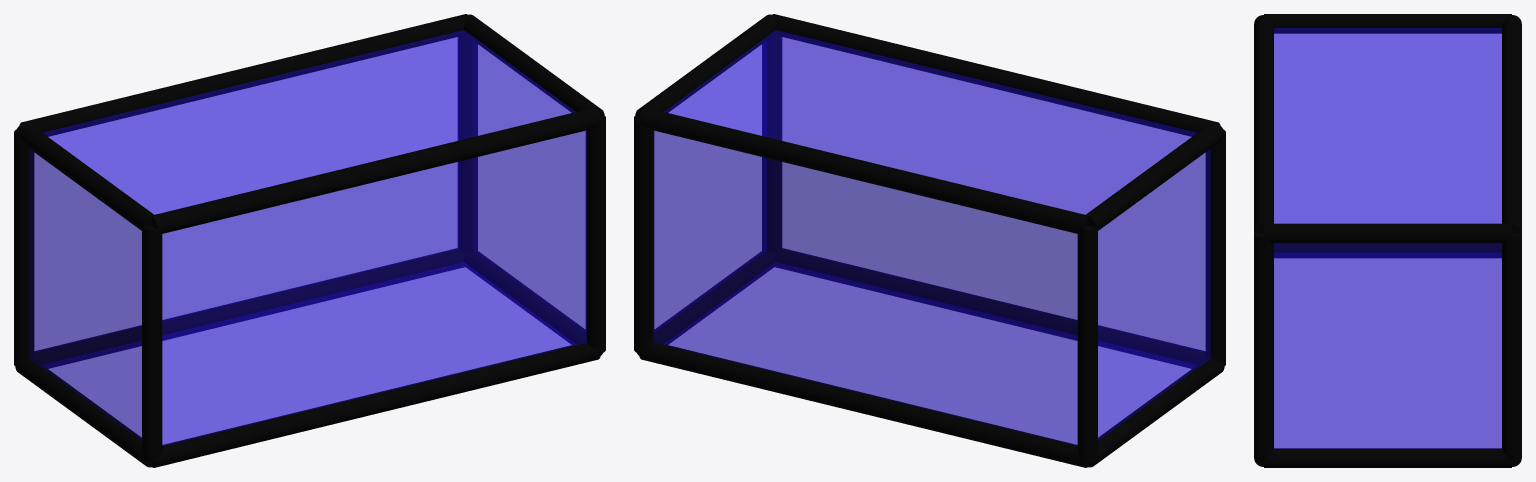
File: rectangularprism.fbx
The picture shows the model from 3 angles, left to right: view 1: azimuth 30°, elevation 25°; view 2: azimuth 150°, elevation 25°; view 3: azimuth 270°, elevation 25°; orthographic projection. The views are drawn at different scales.
Visible parts, largest first — view 1: ReferenceCuboid, CuboidEdge.002, CuboidEdge.006, CuboidEdge, CuboidEdge.004, CuboidEdge.010, CuboidEdge.011, CuboidEdge.009, CuboidEdge.008, CuboidEdge.001, CuboidEdge.005, CuboidEdge.003 (+1 smaller); view 2: ReferenceCuboid, CuboidEdge, CuboidEdge.004, CuboidEdge.002, CuboidEdge.006, CuboidEdge.009, CuboidEdge.008, CuboidEdge.010, CuboidEdge.011, CuboidEdge.001, CuboidEdge.005, CuboidEdge.003 (+1 smaller); view 3: ReferenceCuboid, CuboidEdge.003, CuboidEdge.007, CuboidEdge.001, CuboidEdge.008, CuboidEdge.011, CuboidEdge, CuboidEdge.002, CuboidEdge.005.
Part boxes in pixels (left/top/right/bottom): ReferenceCuboid: left=29, top=30, right=586, bottom=445; CuboidEdge.002: left=152, top=108, right=600, bottom=233; CuboidEdge.006: left=152, top=342, right=600, bottom=467; CuboidEdge: left=19, top=14, right=467, bottom=136; CuboidEdge.004: left=34, top=248, right=464, bottom=368; CuboidEdge.010: left=142, top=226, right=162, bottom=462; CuboidEdge.011: left=585, top=115, right=605, bottom=353; CuboidEdge.009: left=14, top=129, right=34, bottom=366; CuboidEdge.008: left=458, top=35, right=477, bottom=253; CuboidEdge.001: left=15, top=123, right=153, bottom=230; CuboidEdge.005: left=15, top=358, right=152, bottom=467; CuboidEdge.003: left=464, top=14, right=604, bottom=116; ReferenceCuboid: left=653, top=30, right=1210, bottom=445; CuboidEdge: left=639, top=108, right=1087, bottom=233; CuboidEdge.004: left=639, top=342, right=1087, bottom=467; CuboidEdge.002: left=772, top=14, right=1220, bottom=136; CuboidEdge.006: left=775, top=248, right=1205, bottom=368; CuboidEdge.009: left=1077, top=226, right=1097, bottom=462; CuboidEdge.008: left=634, top=115, right=654, bottom=353; CuboidEdge.010: left=1205, top=129, right=1225, bottom=366; CuboidEdge.011: left=762, top=35, right=781, bottom=253; CuboidEdge.001: left=1086, top=123, right=1224, bottom=230; CuboidEdge.005: left=1087, top=358, right=1224, bottom=467; CuboidEdge.003: left=635, top=14, right=775, bottom=116; ReferenceCuboid: left=1274, top=28, right=1501, bottom=448; CuboidEdge.003: left=1264, top=223, right=1511, bottom=243; CuboidEdge.007: left=1264, top=448, right=1511, bottom=467; CuboidEdge.001: left=1264, top=14, right=1511, bottom=33; CuboidEdge.008: left=1502, top=233, right=1521, bottom=462; CuboidEdge.011: left=1254, top=233, right=1273, bottom=462; CuboidEdge: left=1502, top=15, right=1521, bottom=233; CuboidEdge.002: left=1254, top=15, right=1273, bottom=233; CuboidEdge.005: left=1274, top=243, right=1501, bottom=257.
Size of the model in its own units: 208 by 108 by 108.
